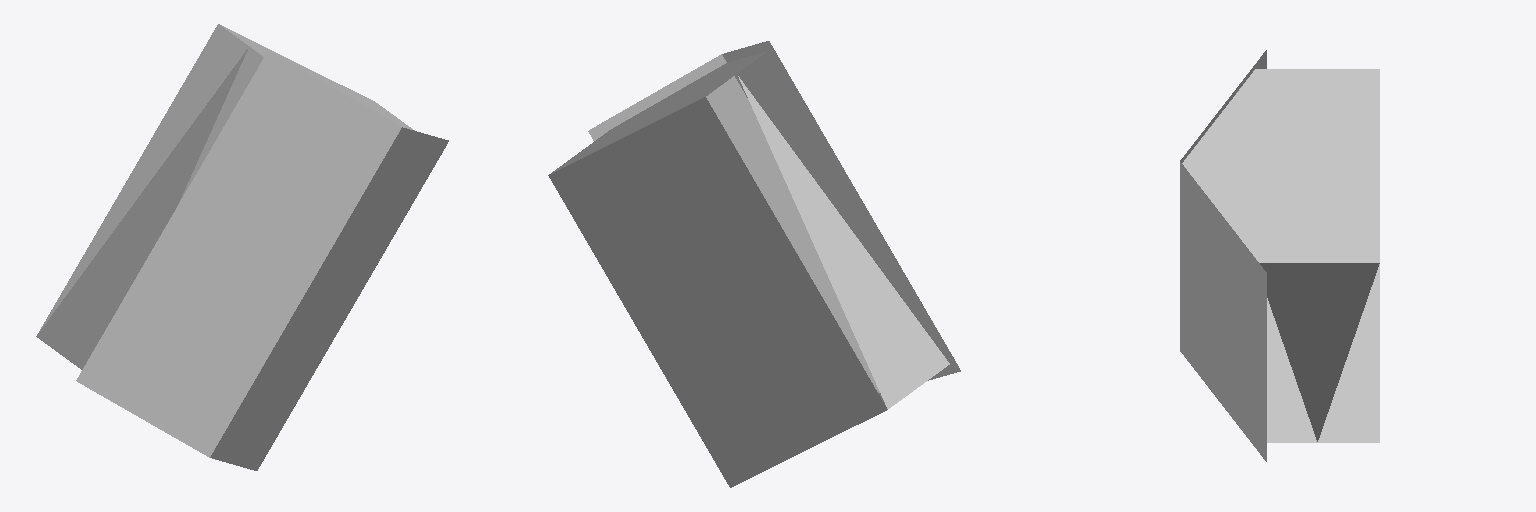
Rendered from Spira175OBJ_flyingHigh.obj.
3 views of the same model, side by side, from view 1: azimuth 30°, elevation 25°; view 2: azimuth 150°, elevation 25°; view 3: azimuth 270°, elevation 25° (orthographic).
Bounding box in the file's own units: 15.92 × 17.03 × 7.38.